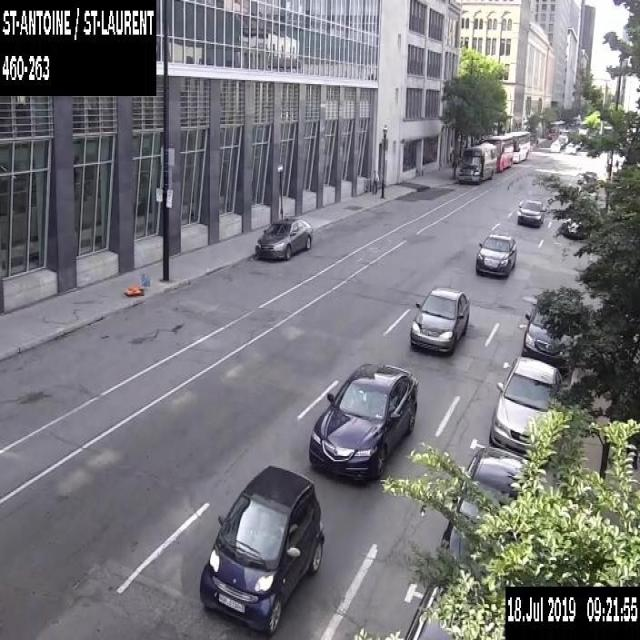bus: (457, 141, 496, 183), (483, 132, 513, 170), (503, 129, 530, 163)
construction: (122, 271, 150, 295)
pedestrian: (370, 168, 379, 193)
vehicle: (198, 464, 324, 636), (308, 360, 417, 484), (439, 445, 533, 578), (488, 354, 566, 465), (409, 285, 470, 355), (519, 300, 570, 374), (402, 581, 454, 639), (254, 216, 312, 259), (475, 232, 516, 277), (516, 197, 544, 227), (562, 217, 583, 238), (558, 128, 569, 142), (550, 140, 560, 151), (556, 135, 565, 147), (565, 142, 575, 152)
